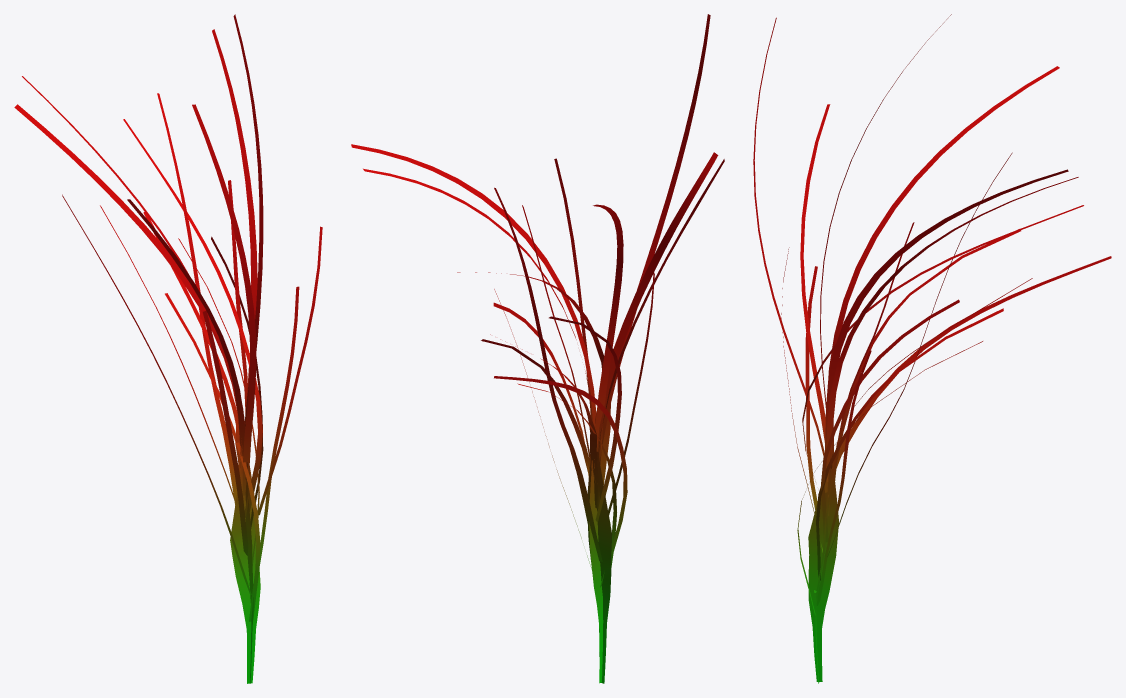
Rendered from Sea Wheatgrass_LOD0_Var10_ui2oagjia.fbx.
The picture shows the model from 3 angles, left to right: view 1: azimuth 30°, elevation 25°; view 2: azimuth 150°, elevation 25°; view 3: azimuth 270°, elevation 25°; orthographic projection. The views are drawn at different scales.
Visible parts, largest first — view 1: _h9b4_Var10_LOD0; view 2: _h9b4_Var10_LOD0; view 3: _h9b4_Var10_LOD0.
Part boxes in pixels (left/top/right/bottom): _h9b4_Var10_LOD0: left=14, top=14, right=322, bottom=683; _h9b4_Var10_LOD0: left=351, top=14, right=724, bottom=683; _h9b4_Var10_LOD0: left=753, top=14, right=1111, bottom=683.
Size of the model in its own units: 18.59 by 39.2 by 20.31.
